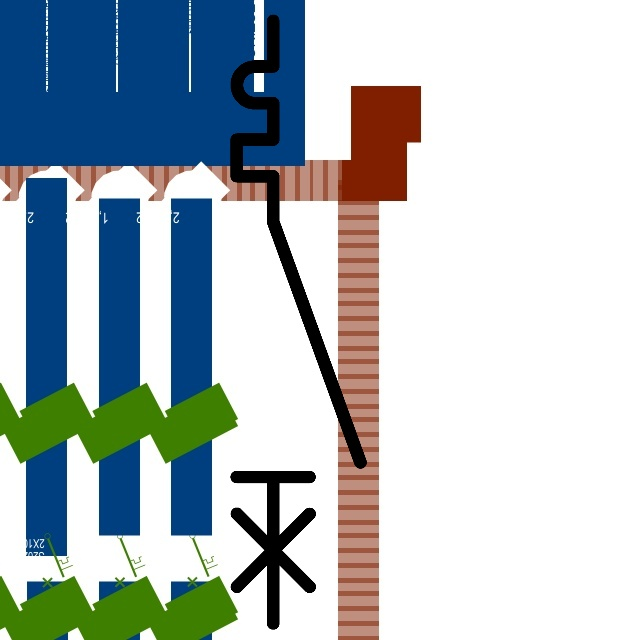interruptor_termomagnetico: (221, 5, 376, 638)
